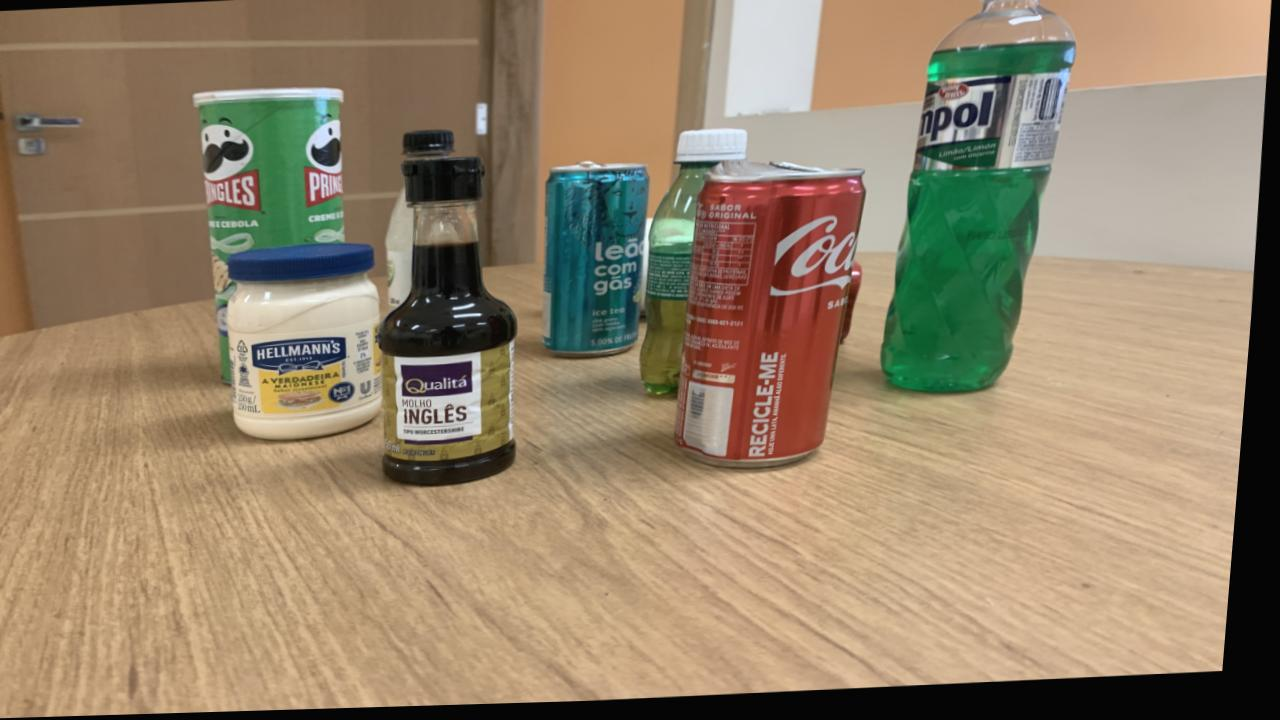Coke-Drinks: (682, 164, 869, 472)
Detergent-Cleanup_Items: (888, 0, 1078, 399)
English_Sauce-Pantry_Items: (385, 160, 523, 488)
Guarana-Drinks: (646, 133, 749, 399)
Mayonnaise-Pantry_Items: (233, 245, 388, 441)
Pig_Safe-Miscellaneous: (641, 222, 658, 321)
Pringles-Snacks: (196, 89, 350, 383)
Soda-Drinks: (389, 191, 418, 311), (406, 132, 457, 162)
Tea-Drinks: (548, 166, 652, 360)
Tuna_Can-Pantry_Items: (847, 268, 868, 349)
